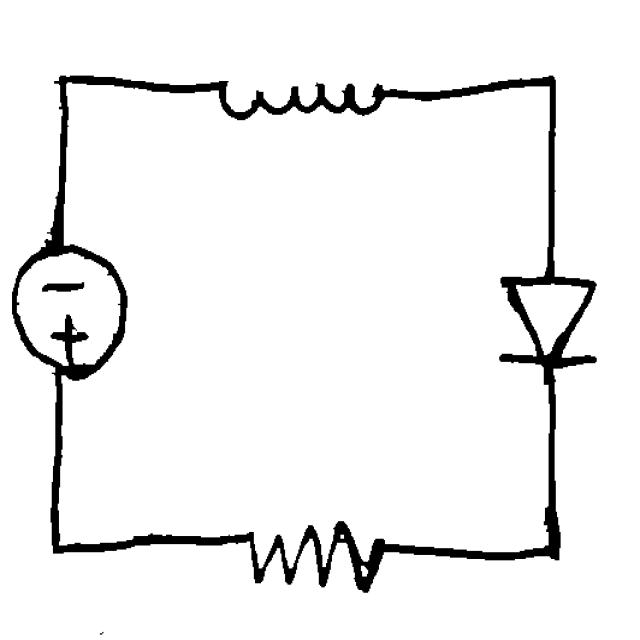dc: (3, 234, 142, 386)
diode: (478, 263, 607, 384)
inductor: (204, 66, 404, 134)
resistor: (216, 503, 398, 600)
